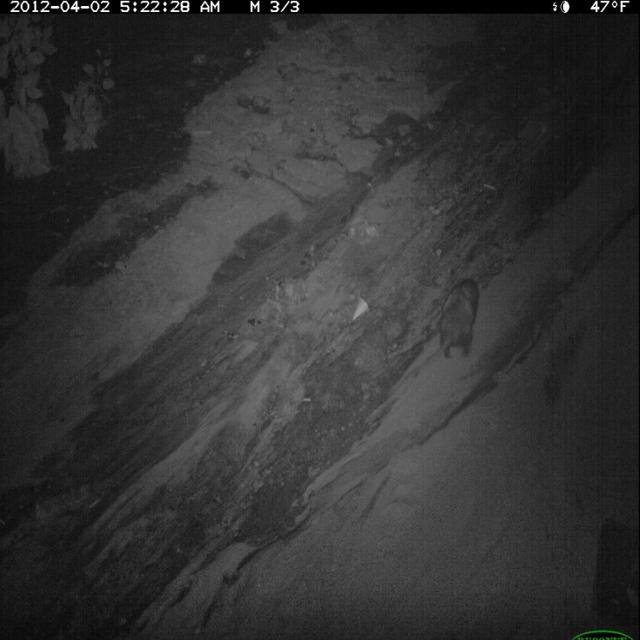opossum: (422, 273, 484, 368)
